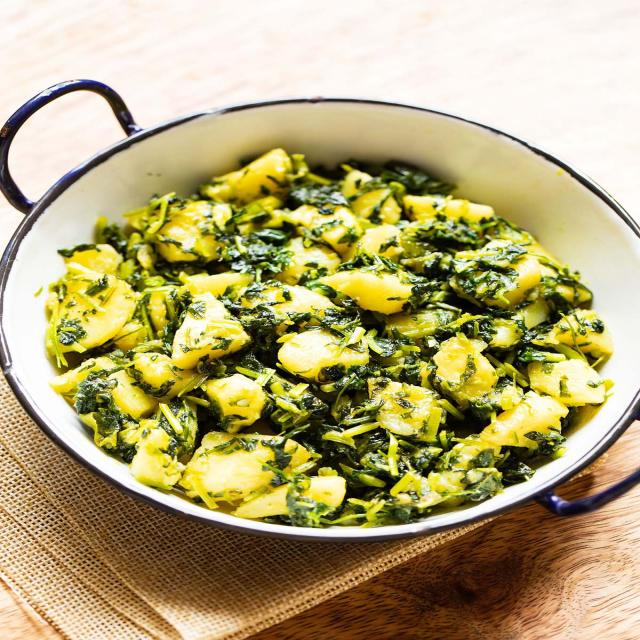aloo_matar: (59, 151, 590, 510)
